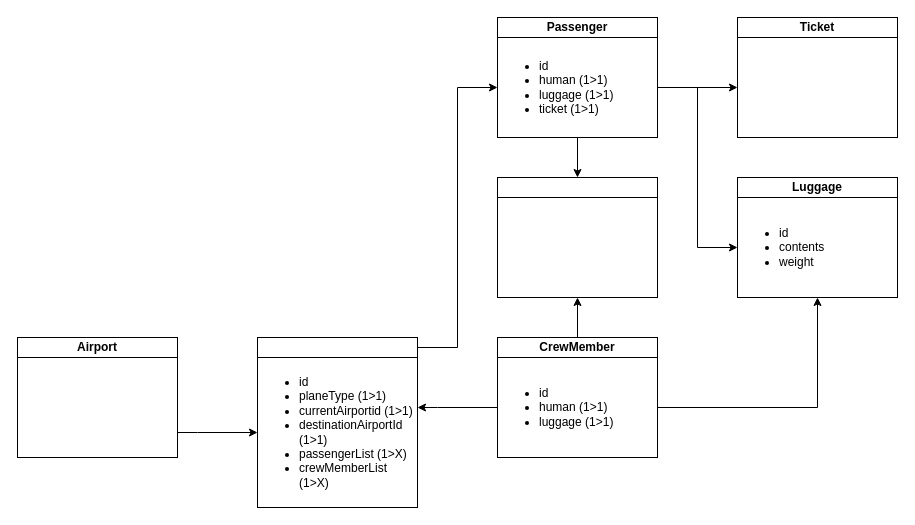
Image size: 915x525. Some labels were removed from this diagram. Here are the shapes that lost their labels. From the top down, the centre of each, then its label:
(817,87): airportId 1>1 airplaneId 1>1 seatNumber 1>1 destination 1>1
(577,187): Human
(577,247): id name surname dateOfBirth age weight
(337,347): Airplane
(97,407): id location airplaneList (1>X)
